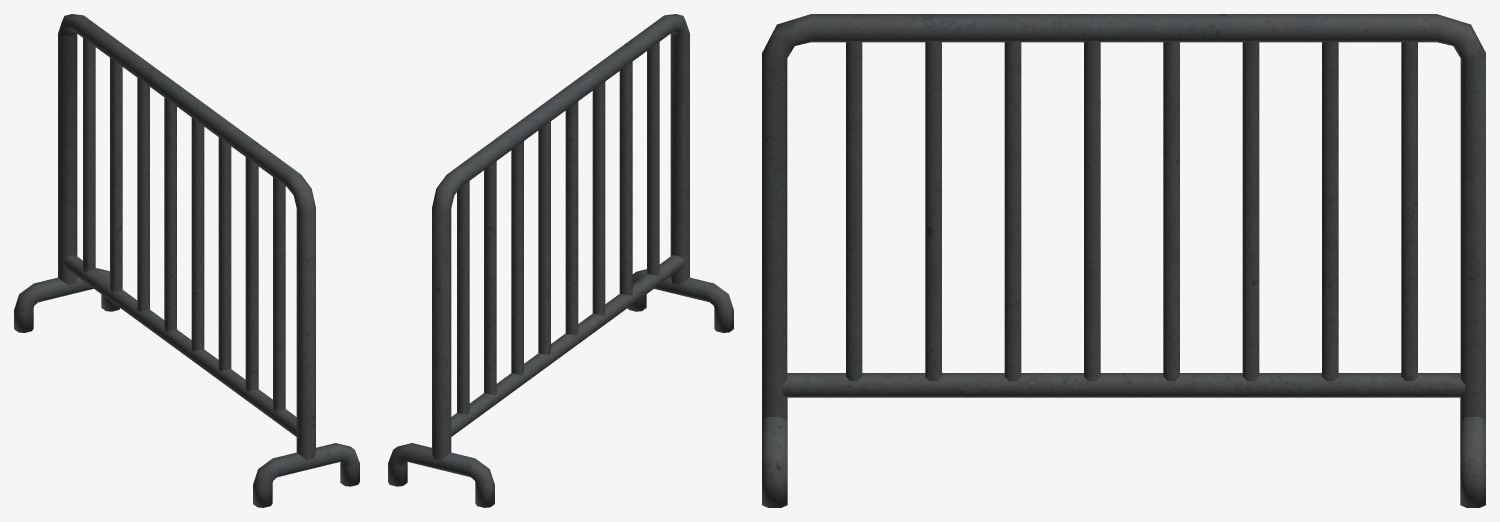
The model's file is Reja.obj.
The picture shows the model from 3 angles, left to right: view 1: azimuth 30°, elevation 25°; view 2: azimuth 150°, elevation 25°; view 3: azimuth 270°, elevation 25°; orthographic projection. The views are drawn at different scales.
Parts seen in each view (by area): view 1: Mesh; view 2: Mesh; view 3: Mesh.
Part boxes in pixels (box(x1,y1,x2,y2)): Mesh: box(14, 14, 359, 507); Mesh: box(388, 14, 733, 507); Mesh: box(762, 14, 1485, 507).
Size of the model in its own units: 1.01 by 2.94 by 4.24.
Materials: 1 (1 with a texture image).
